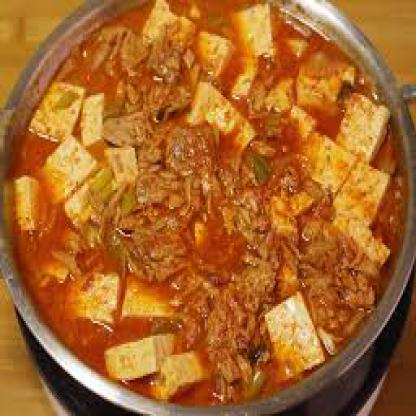Kimchi: (21, 11, 403, 399)
